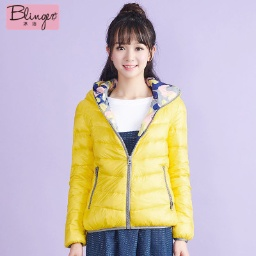face: (97, 3, 159, 82)
